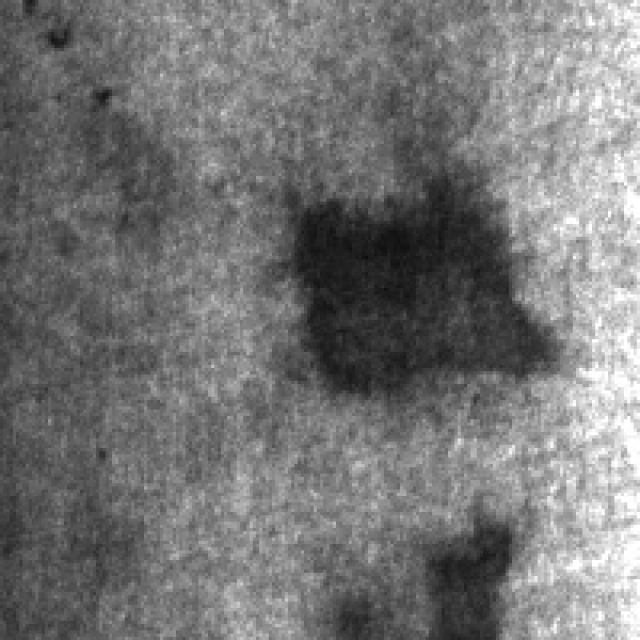patches: (275, 166, 557, 397), (410, 499, 528, 637)
